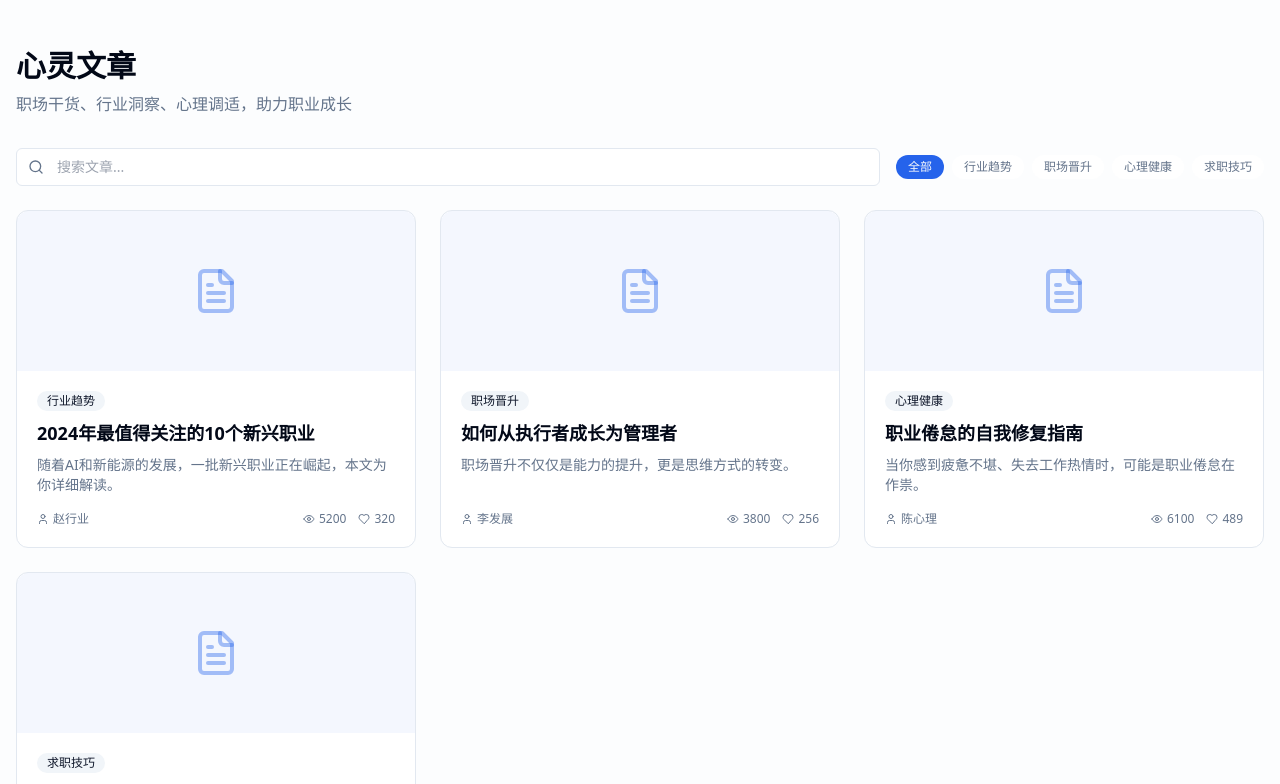
Test case: Articles Page › shows "no results" when search yields no matches
Step 1. Type "不存在的文章" into the field with placeholder "搜索文章..." → (448, 167), box [16,148,880,186]
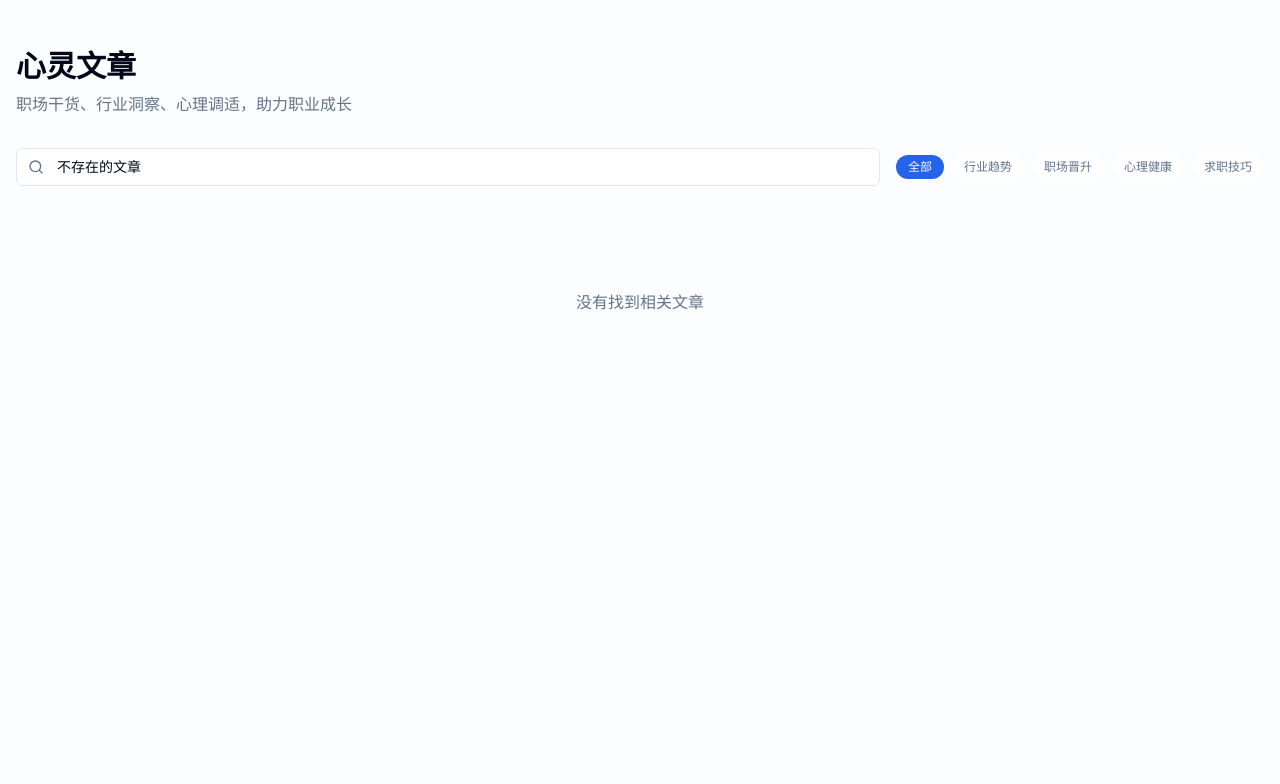
Expected: the text "没有找到相关文章" is shown, [576,291,704,313]
